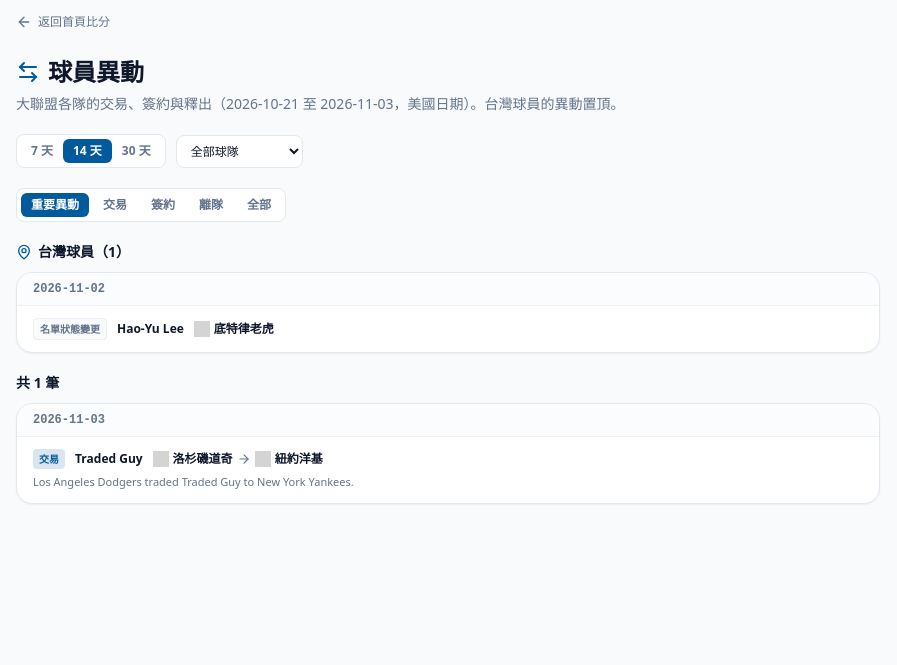
Test: TransactionsPage › shows every move under "all" and one club’s under its name
Expected: the link "Traded Guy" is shown, [75,451,143,467]
Click the button "全部" at (259, 205), box [237,193,281,217]
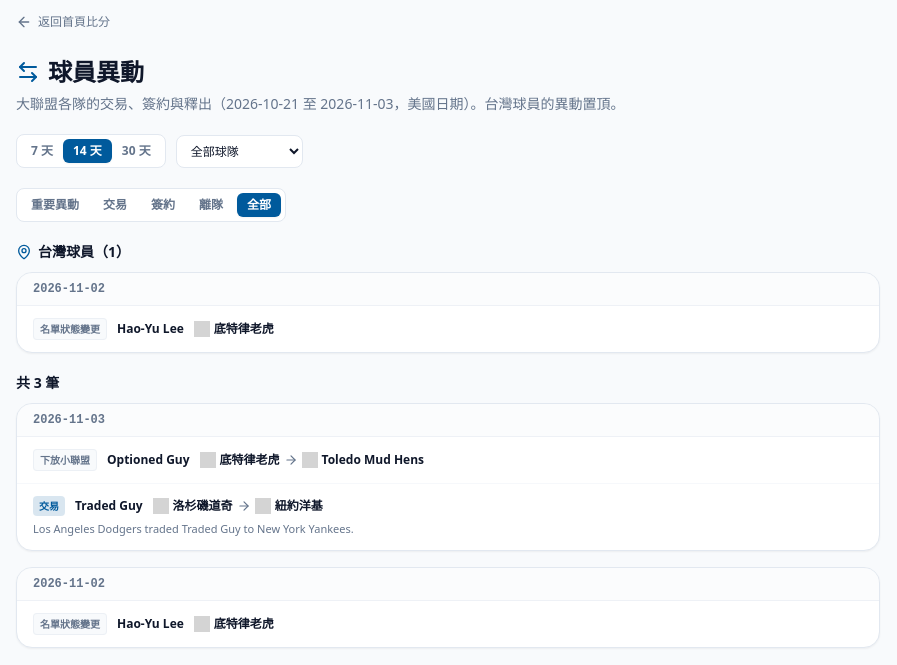
Now the link "Optioned Guy" is shown, box [107,452,190,468]
Select "紐約洋基" in the dropdown named "球隊" at (239, 151), box [176,134,303,168]
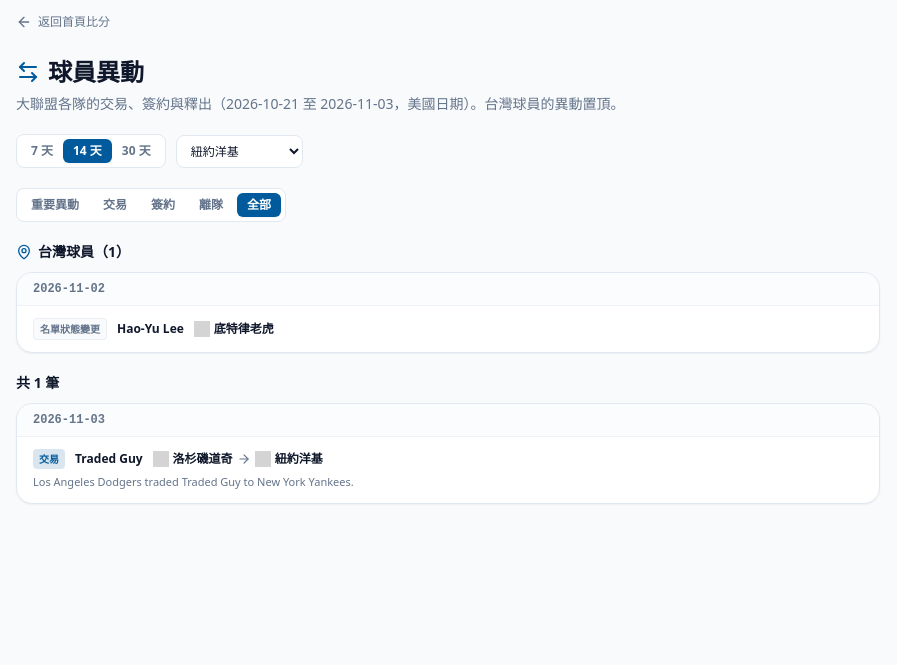
Now the element "共 1 筆" is shown, box [16,373,880,504]
Now the link "Optioned Guy" is gone
